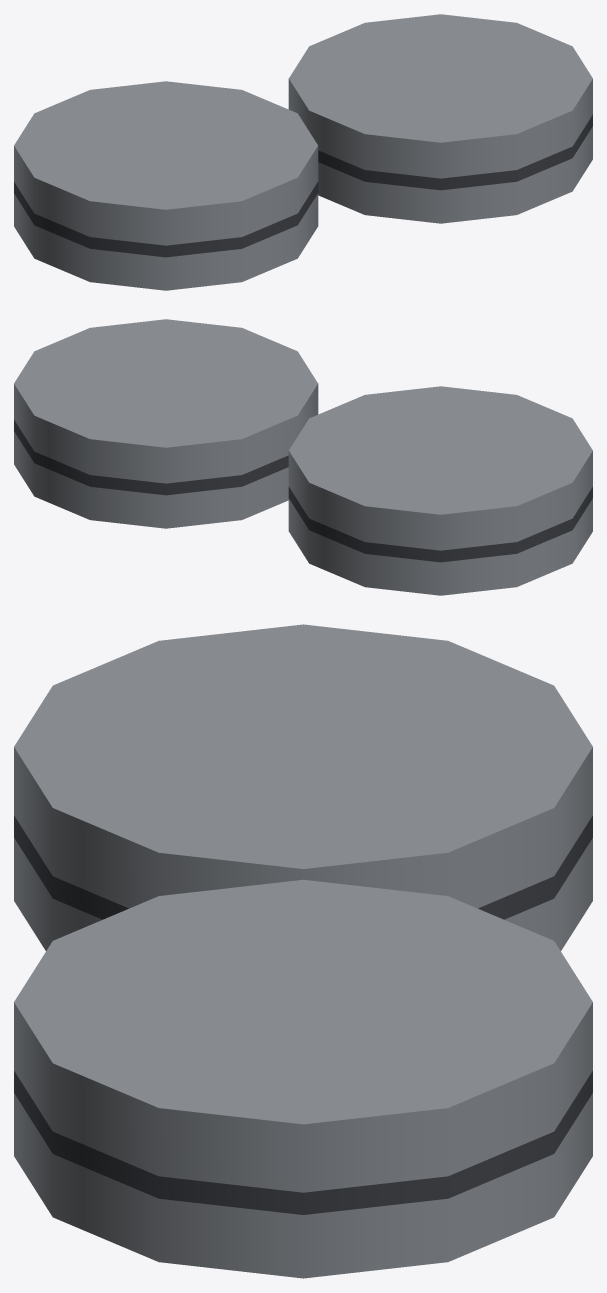
File: SM_Pipe_6_Cap.fbx
The picture shows the model from 3 angles, top to bottom: view 1: azimuth 30°, elevation 25°; view 2: azimuth 150°, elevation 25°; view 3: azimuth 270°, elevation 25°; orthographic projection. The views are drawn at different scales.
Visible parts, largest first — view 1: SM_Pipe_6_Cap_LOD0; view 2: SM_Pipe_6_Cap_LOD0; view 3: SM_Pipe_6_Cap_LOD0.
Boxes of the visible parts, left/top/right/bottom form: SM_Pipe_6_Cap_LOD0: left=14, top=14, right=592, bottom=290; SM_Pipe_6_Cap_LOD0: left=14, top=319, right=592, bottom=595; SM_Pipe_6_Cap_LOD0: left=14, top=624, right=592, bottom=1278.
Size of the model in its own units: 188 by 92.01 by 27.02.
1 material, 1 textured.
